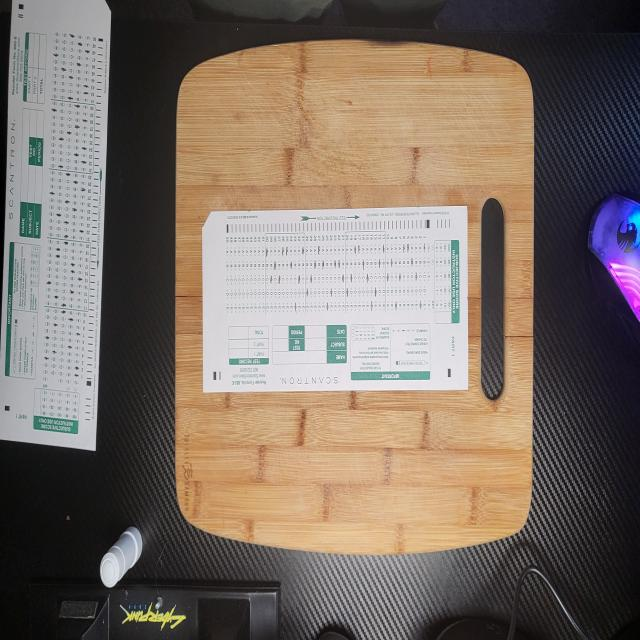scantron: (202, 205, 468, 393)
